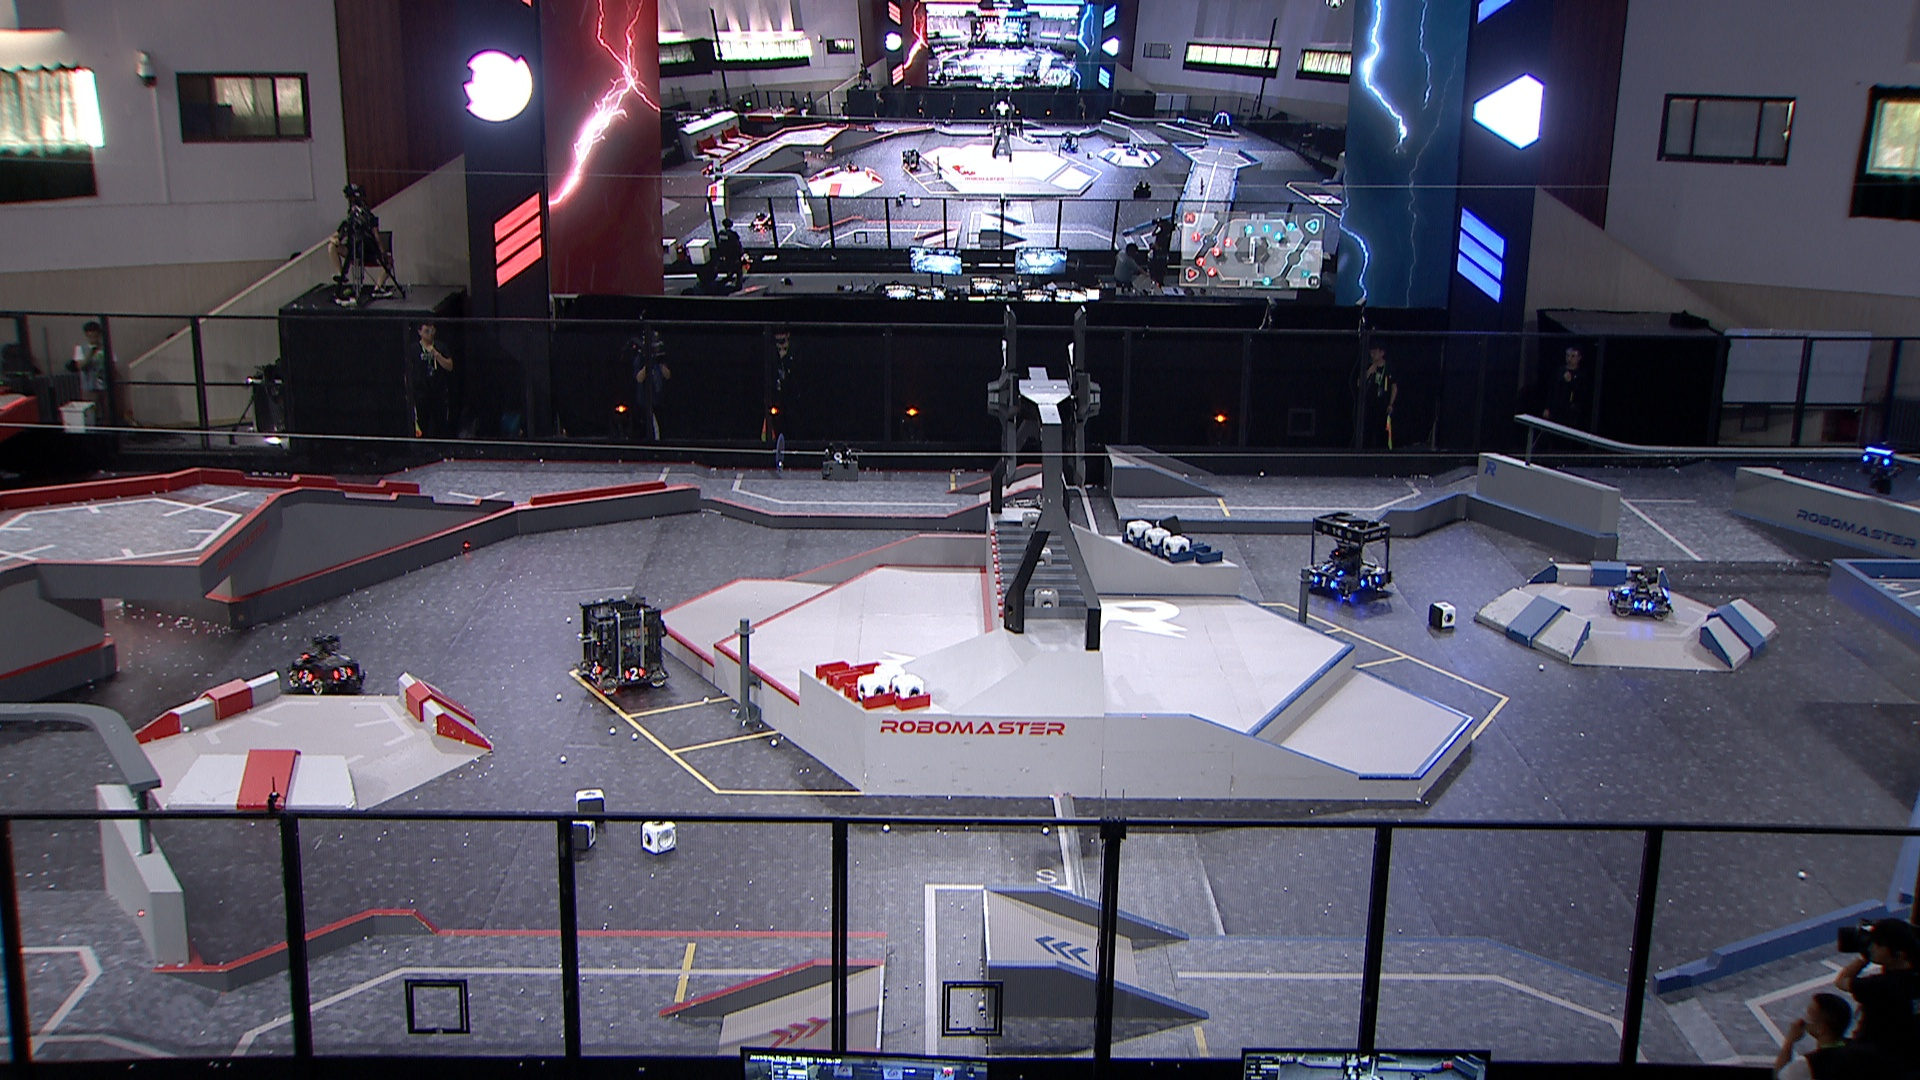armor: (1313, 574, 1337, 589), (622, 665, 642, 683), (1863, 451, 1888, 465), (1358, 574, 1381, 588), (1321, 562, 1344, 575), (334, 665, 352, 680), (1633, 597, 1651, 611), (1614, 583, 1629, 597), (588, 661, 603, 675), (1605, 589, 1618, 605), (295, 669, 313, 680)
car: (572, 595, 671, 698), (1300, 510, 1400, 611), (982, 489, 1076, 568), (286, 636, 367, 698), (1604, 562, 1676, 622)
ignore: (745, 207, 775, 233), (1205, 109, 1237, 135), (1055, 127, 1084, 153), (898, 149, 927, 175), (705, 164, 728, 183), (1122, 142, 1139, 158), (1172, 113, 1188, 129), (843, 158, 858, 171)
watcher: (1858, 436, 1903, 495)
